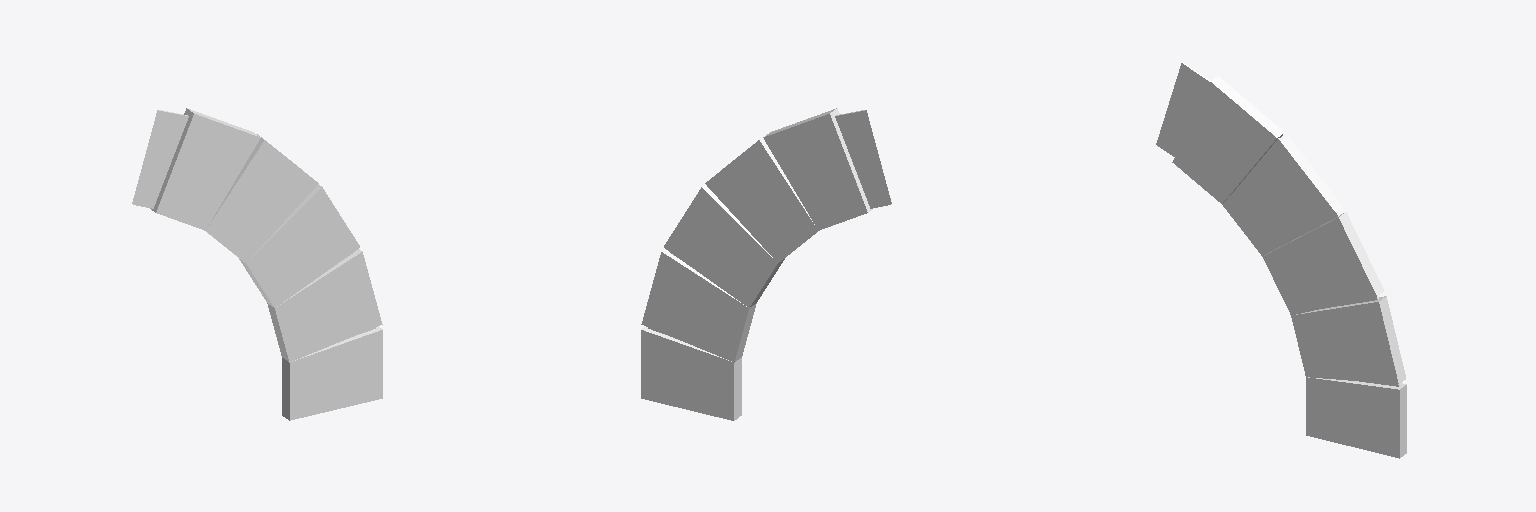
File: generic_facade_round_arch_3_right_bottom.obj
3 views of the same model, side by side, from view 1: azimuth 30°, elevation 25°; view 2: azimuth 150°, elevation 25°; view 3: azimuth 330°, elevation 25° (orthographic).
Parts seen in each view (by area): view 1: arch_3_left, arch_3_left_inner; view 2: arch_3_left, arch_3_left_inner; view 3: arch_3_left, arch_3_left_inner.
Boxes of the visible parts, x1,y1,x2,y2 form: arch_3_left: [150, 108, 382, 420]; arch_3_left_inner: [132, 110, 375, 336]; arch_3_left: [641, 108, 873, 420]; arch_3_left_inner: [648, 110, 891, 336]; arch_3_left: [1172, 76, 1406, 458]; arch_3_left_inner: [1156, 62, 1399, 386].
Size of the model in its own units: 1.68 by 2.22 by 0.0906.